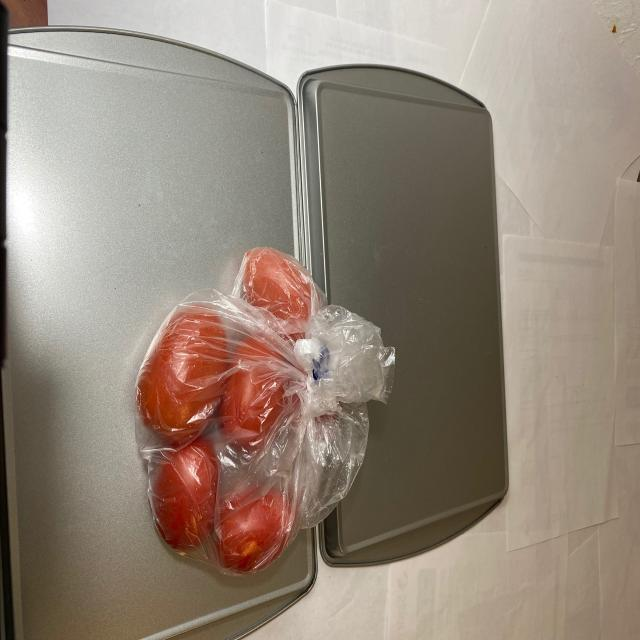tomato: (134, 246, 372, 574)
